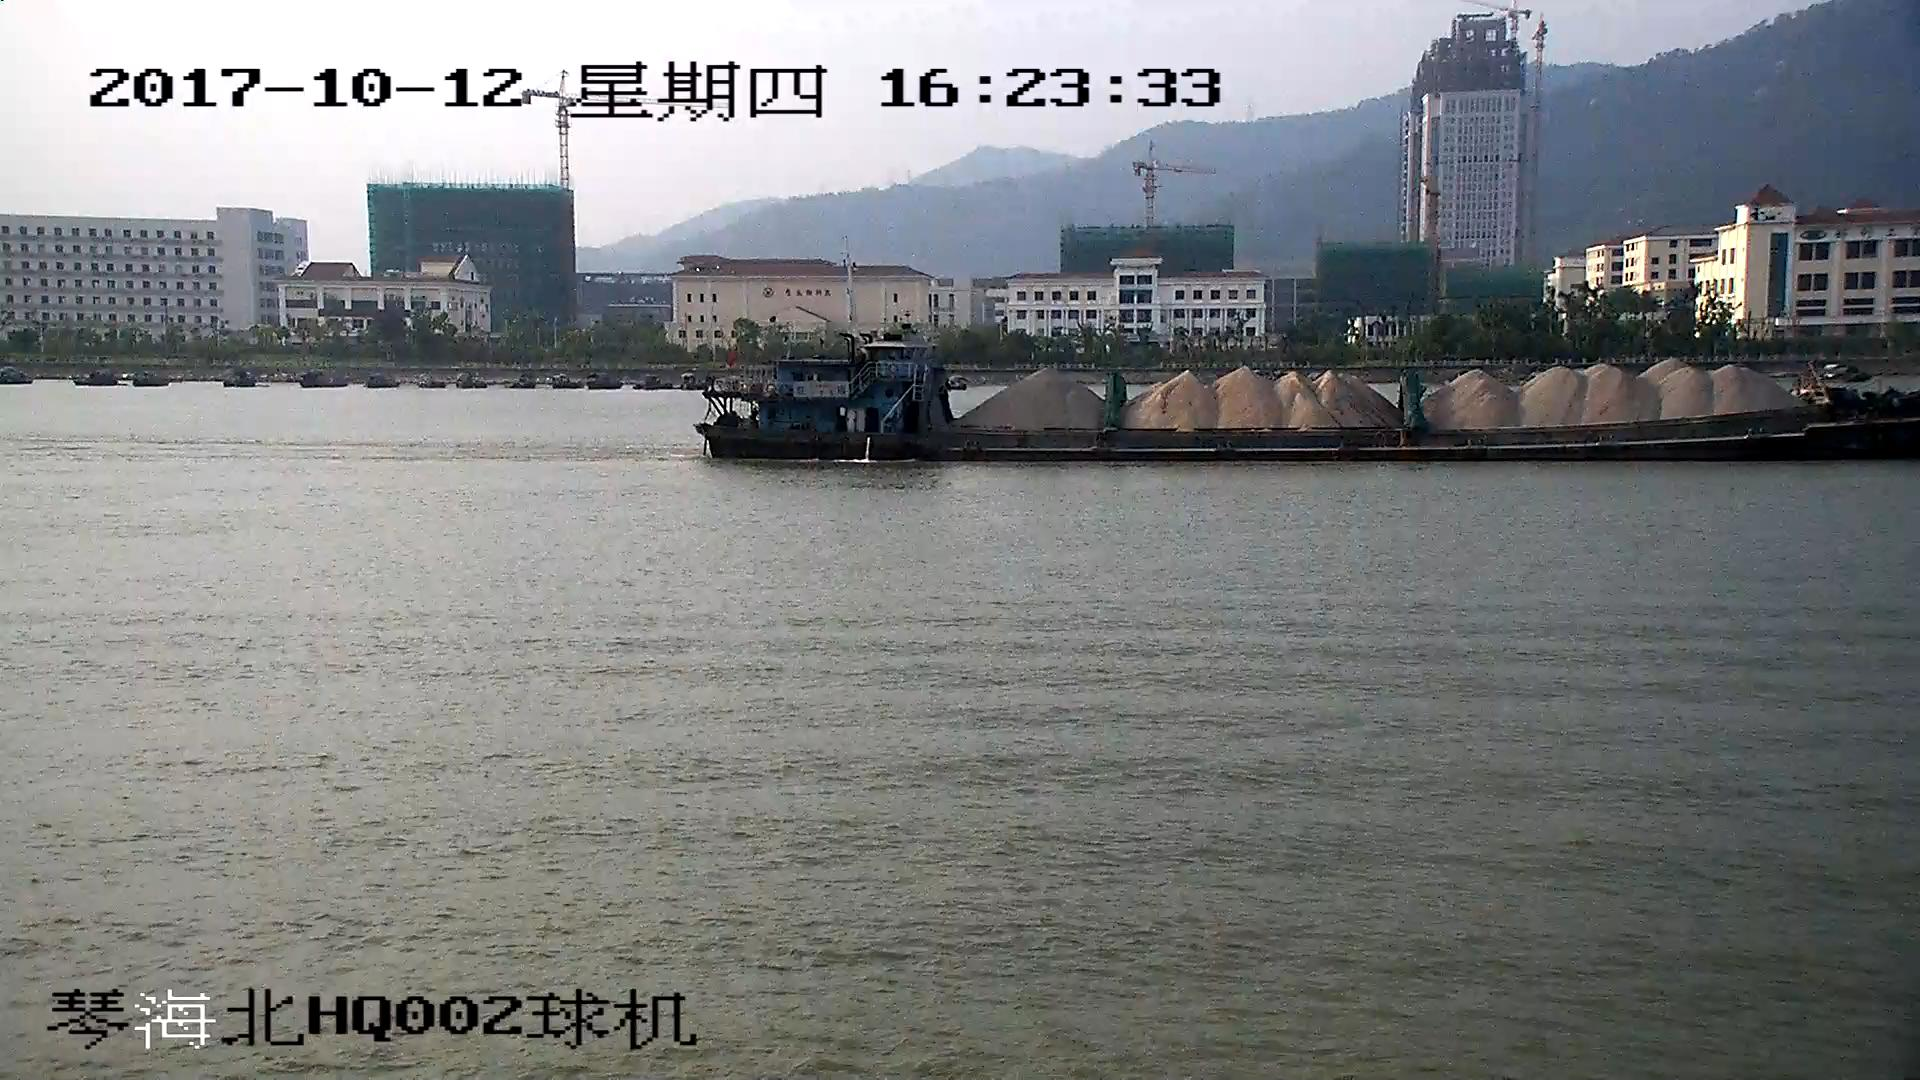ore carrier: (697, 343, 1920, 465)
